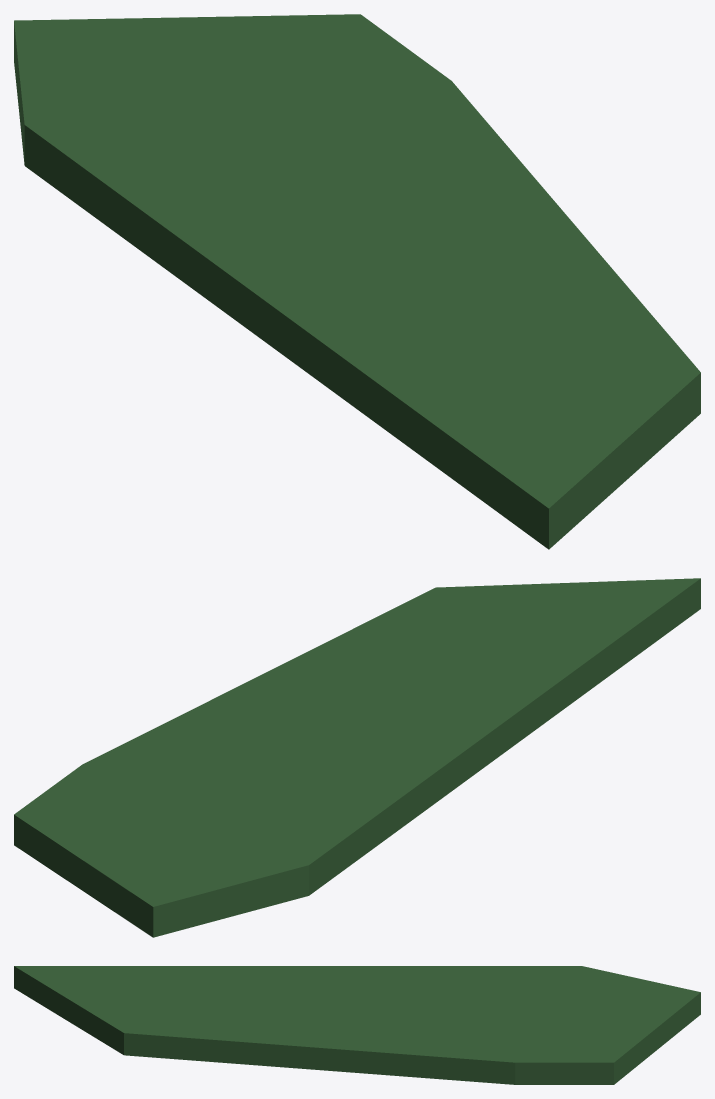
The model's file is x_proval_00_143_1_rmstrd.fbx.
The picture shows the model from 3 angles, top to bottom: view 1: azimuth 30°, elevation 25°; view 2: azimuth 150°, elevation 25°; view 3: azimuth 270°, elevation 25°; orthographic projection. The views are drawn at different scales.
Parts seen in each view (by area): view 1: x_proval_00_143_1_rmstrd1; view 2: x_proval_00_143_1_rmstrd1; view 3: x_proval_00_143_1_rmstrd1.
Part boxes in pixels (x1,y1,x2,y2): x_proval_00_143_1_rmstrd1: (14,14,700,549); x_proval_00_143_1_rmstrd1: (14,578,700,937); x_proval_00_143_1_rmstrd1: (14,966,700,1084).
Bounding box in the file's own units: 1.86 × 0.2 × 5.59.
